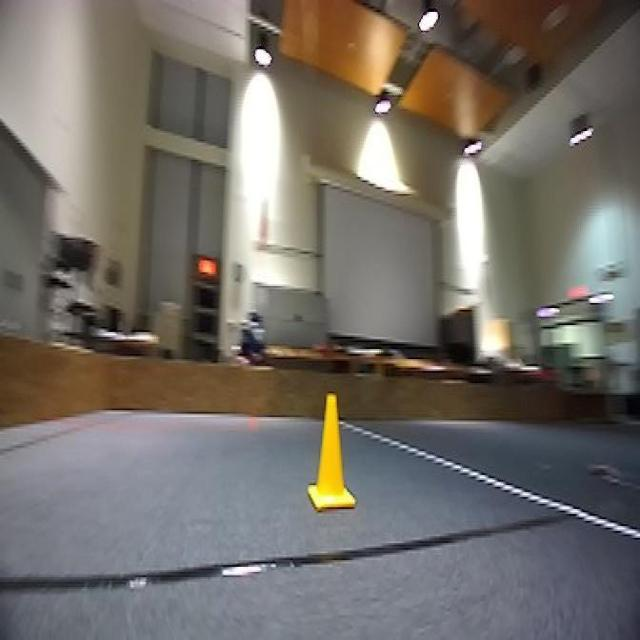frc_cone: (304, 393, 357, 512)
